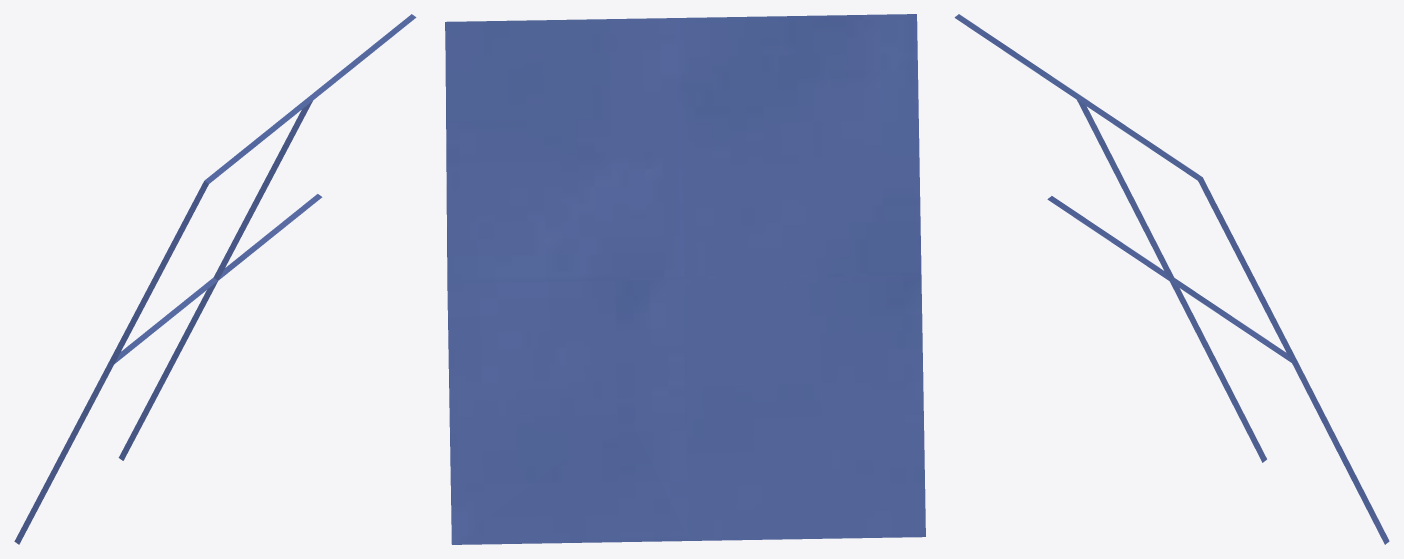
3 renders of one model, left to right at view 1: azimuth 30°, elevation 25°; view 2: azimuth 150°, elevation 25°; view 3: azimuth 270°, elevation 25°, orthographic. The views are drawn at different scales.
Size of the model in its own units: 19626 by 17762 by 16872.
1 material, 1 textured.
